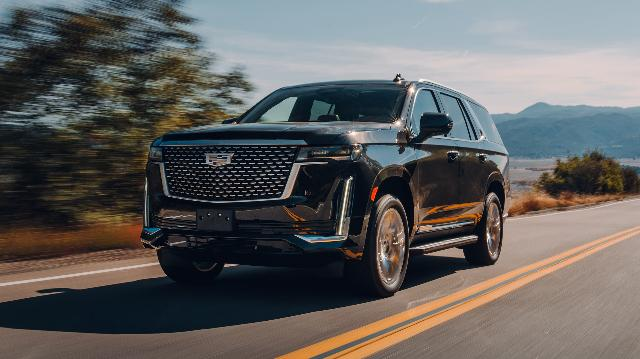cadillac: (140, 73, 510, 297)
